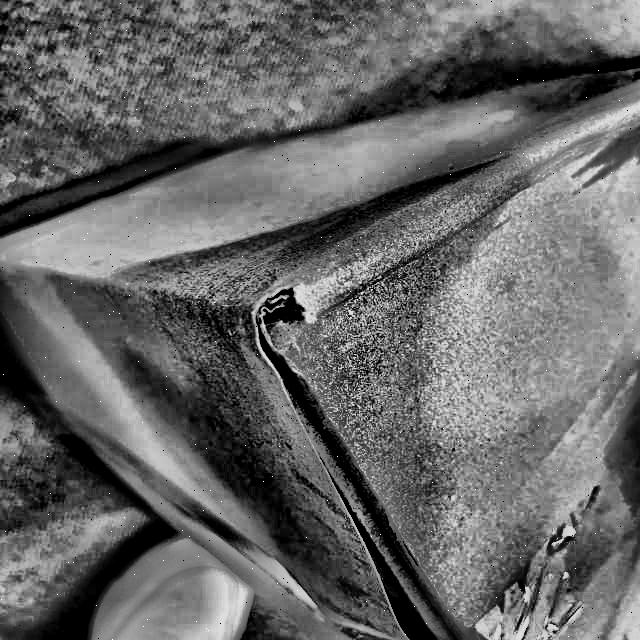box: (0, 29, 640, 640)
wet: (113, 144, 542, 640)
